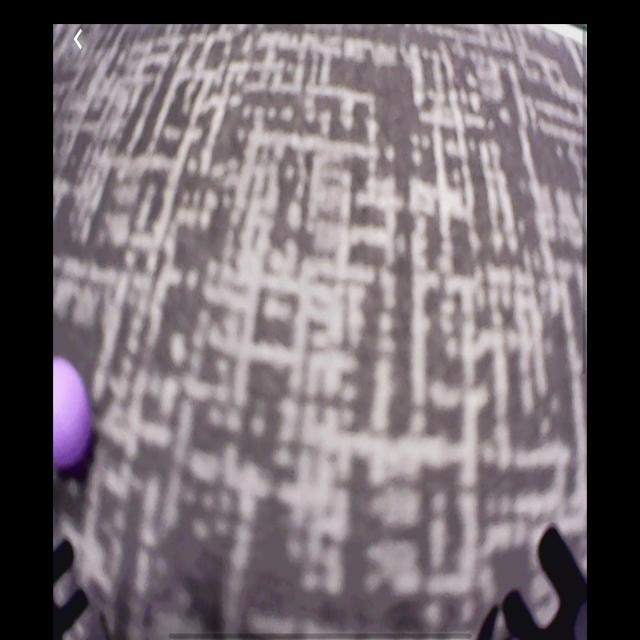ball: (55, 356, 93, 472)
